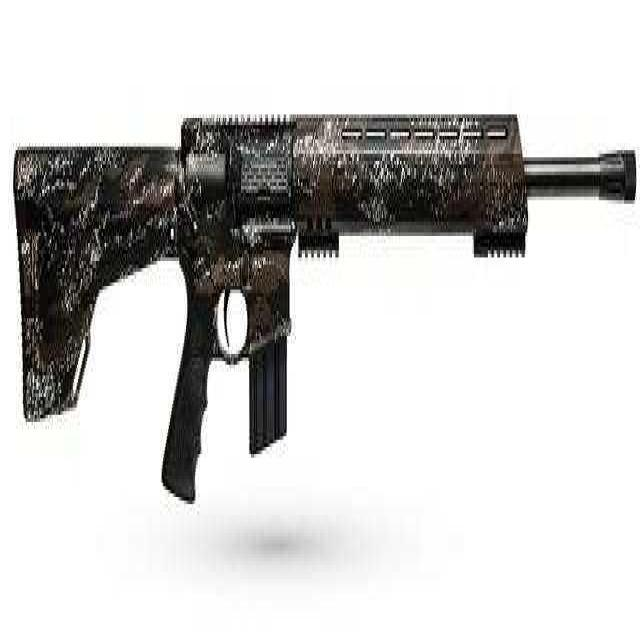weapon: (3, 71, 635, 615)
